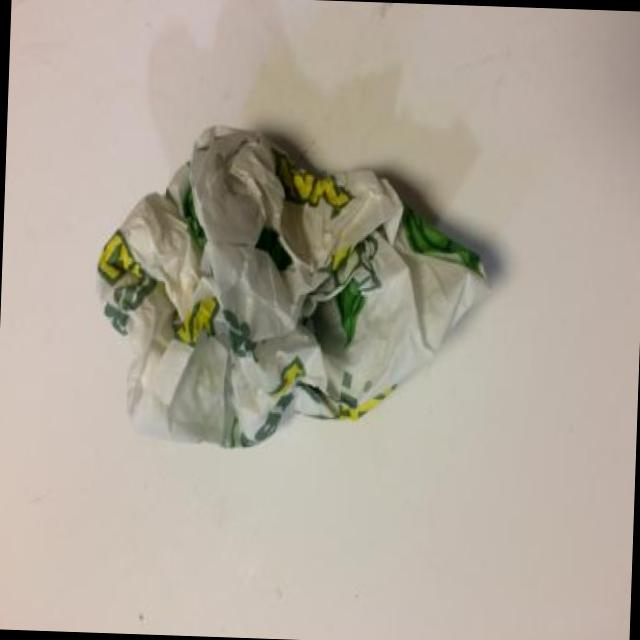giay: (98, 128, 488, 448)
